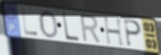H: (102, 16, 126, 48)
L: (61, 11, 80, 43), (20, 8, 39, 37)
O: (39, 9, 60, 39)
P: (123, 18, 143, 48)
R: (79, 13, 103, 46)
